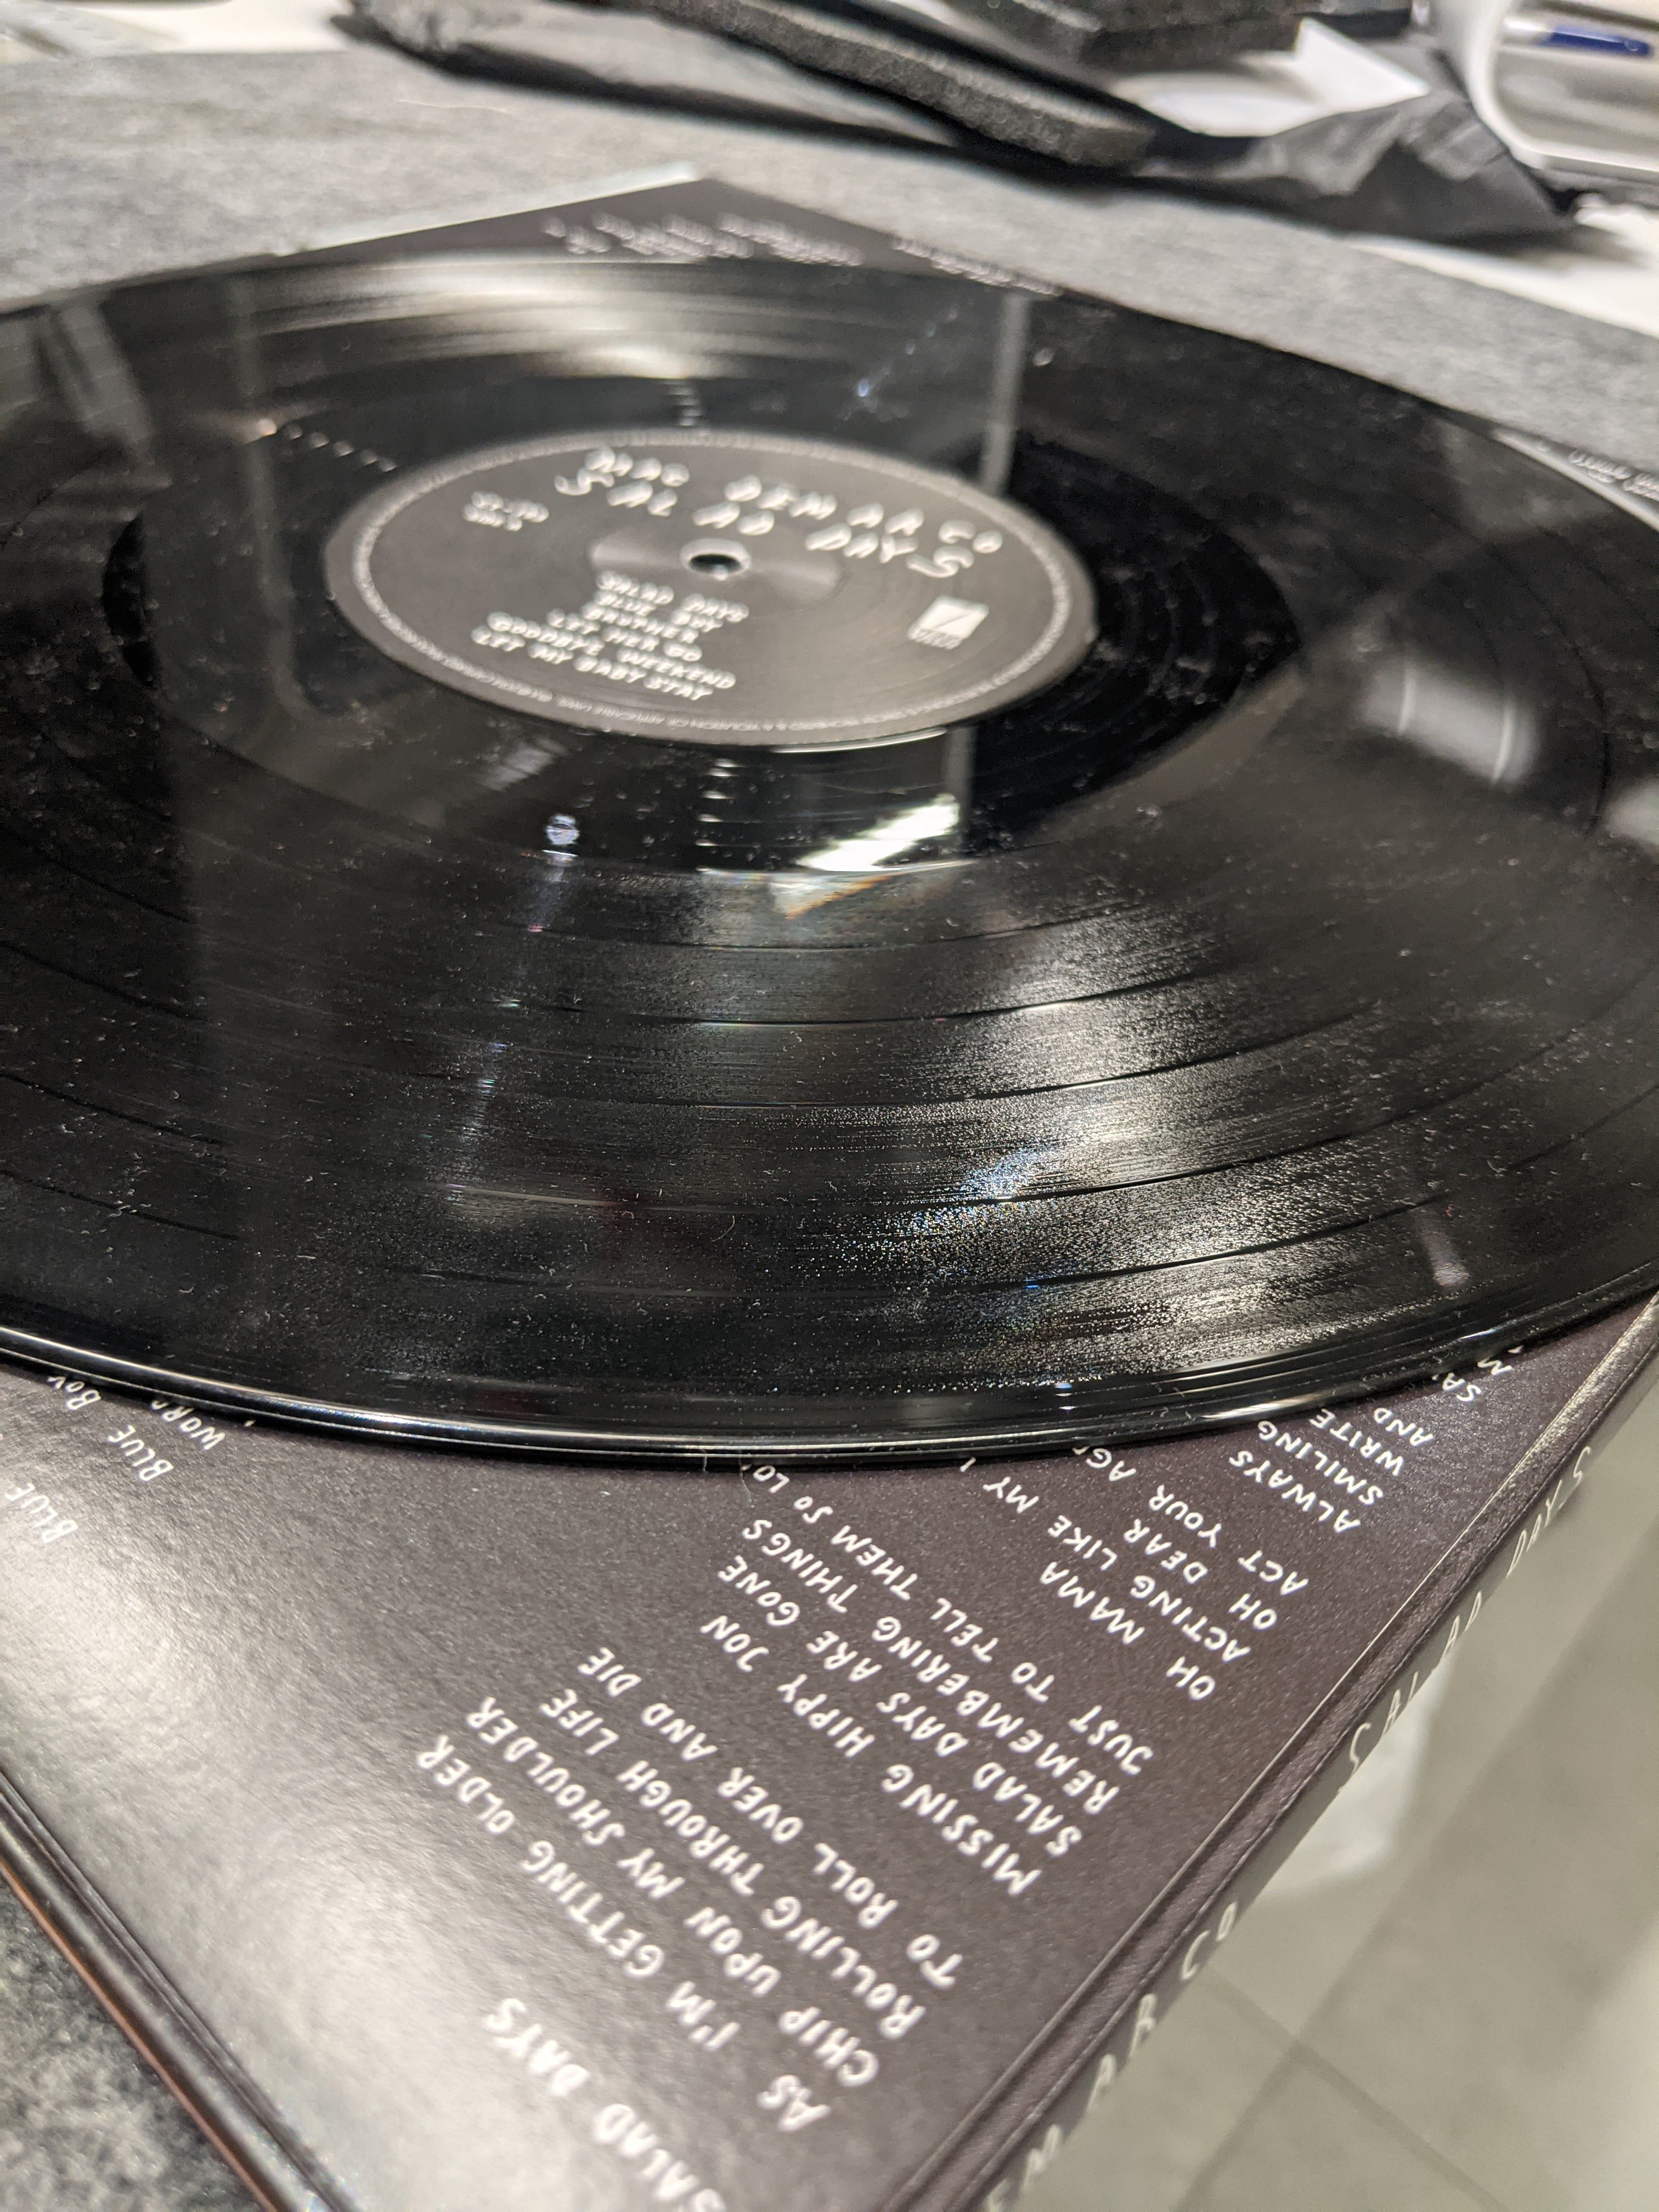song_edge: (960, 881, 1161, 968), (1121, 1127, 1290, 1217), (1019, 972, 1171, 1050), (1061, 1055, 1220, 1127), (1127, 1240, 1279, 1306)
